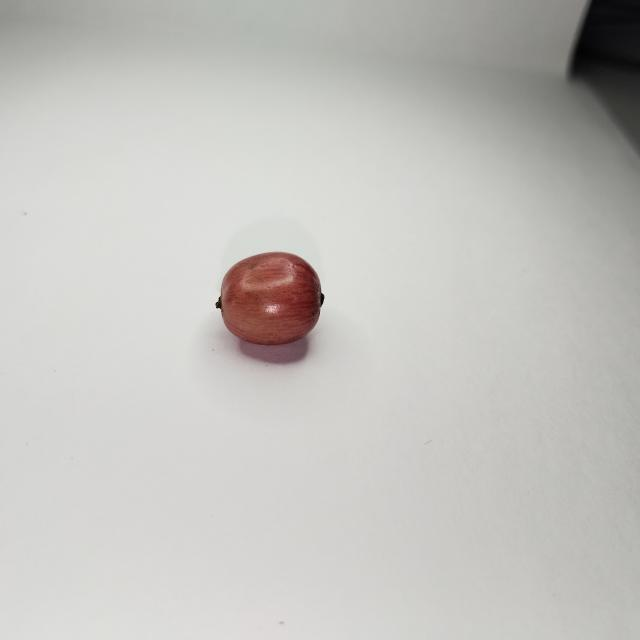Sano: (216, 251, 323, 347)
